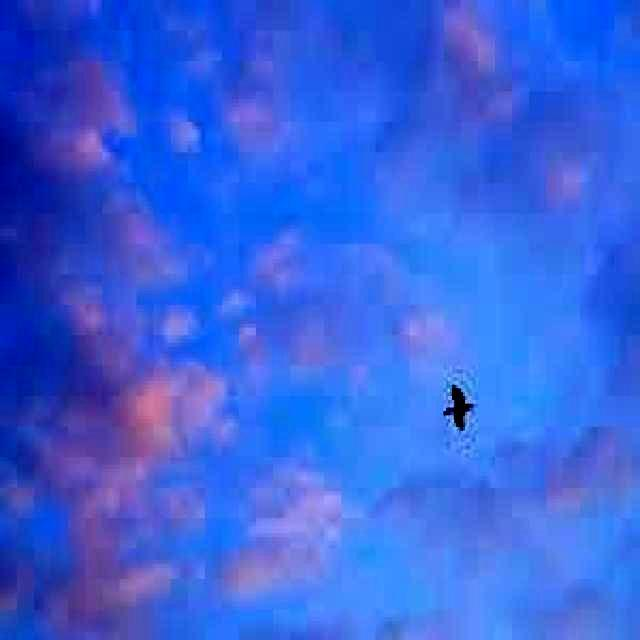bird: (446, 380, 474, 428)
